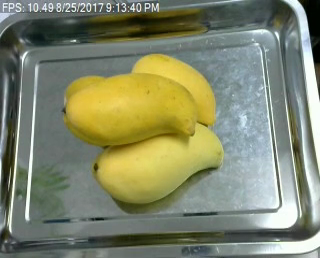Mango: (93, 122, 222, 208), (63, 71, 195, 145), (132, 53, 215, 125), (63, 70, 104, 99)
